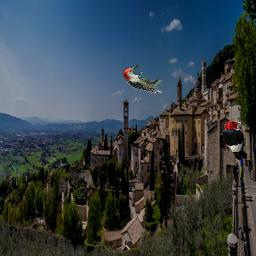Woodpecker: (123, 65, 163, 93), (222, 121, 247, 161)
